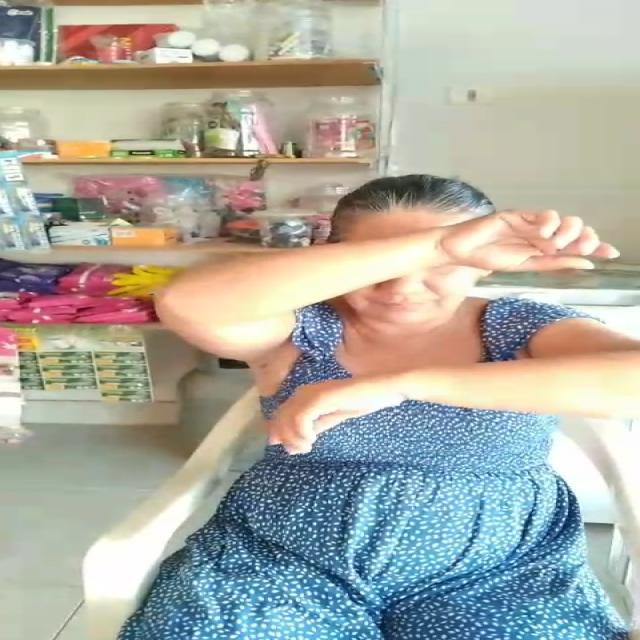7_mano_rostro: (269, 214, 544, 292)
